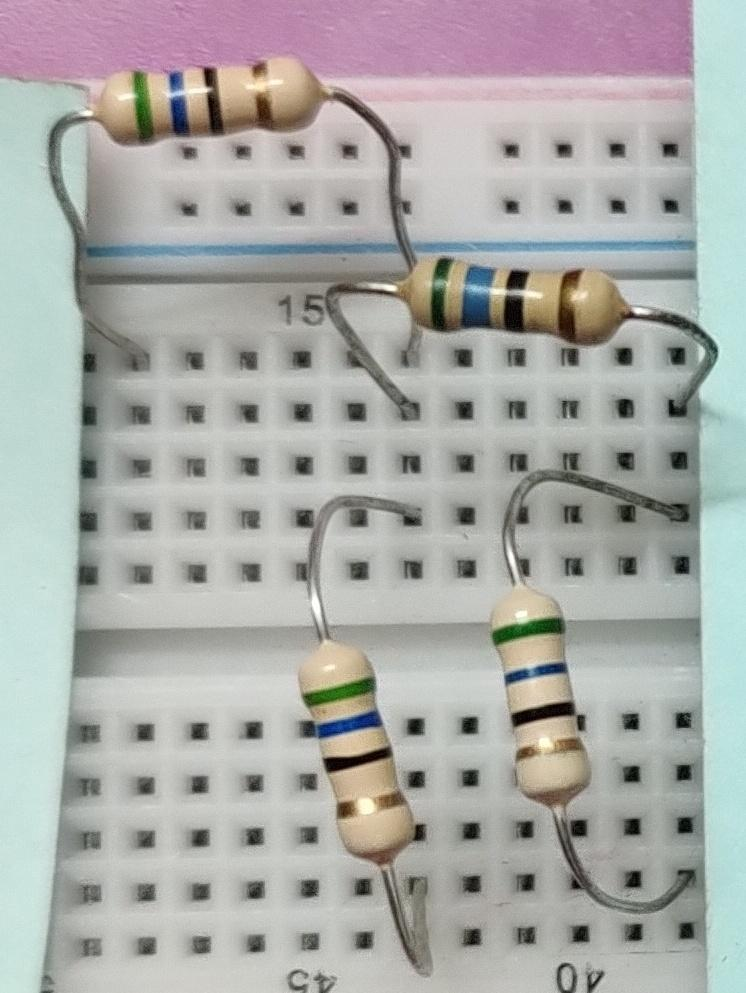resistor: (287, 634, 430, 869), (473, 582, 606, 814), (385, 243, 637, 354), (85, 45, 326, 161)
